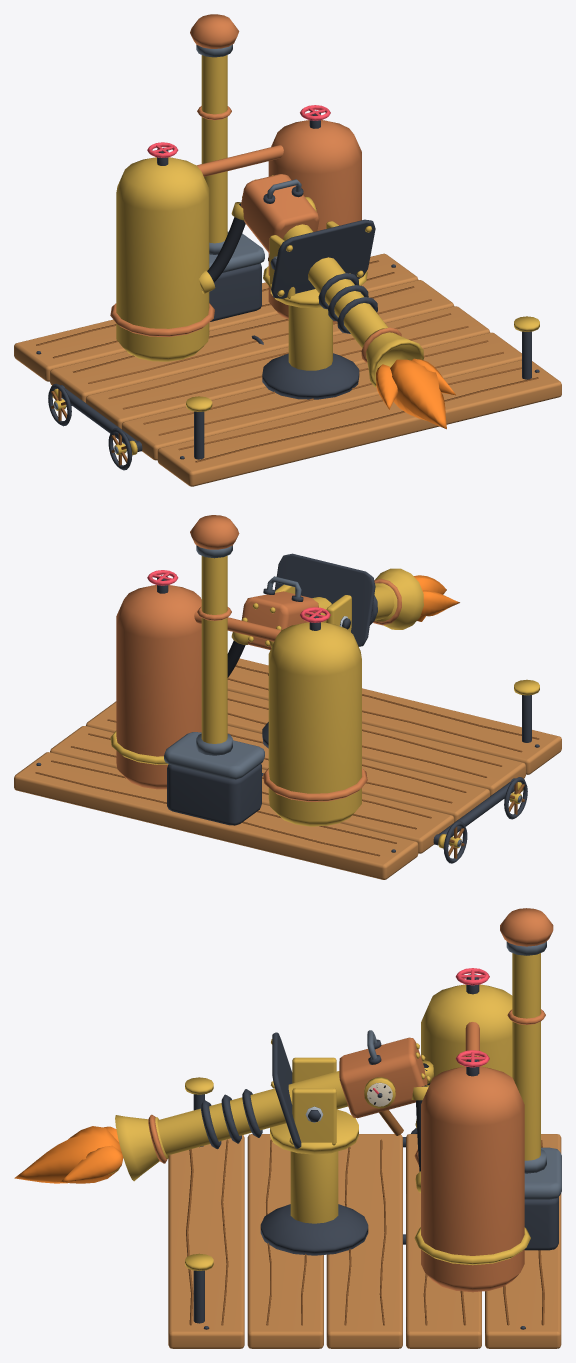
File: FlamethrowerTurret_T2.fbx
The picture shows the model from 3 angles, top to bottom: view 1: azimuth 30°, elevation 25°; view 2: azimuth 150°, elevation 25°; view 3: azimuth 270°, elevation 25°; orthographic projection. The views are drawn at different scales.
Parts seen in each view (by area): view 1: FlamethrowerTurretT2Deck, FlamethrowerTurretT2Tanks, FlamethrowerTurretT2Gun, FlamethrowerTurretT2Pump, FlamethrowerTurretT2Mount, FlamethrowerTurretT2FlameGlow, FlamethrowerTurretT2WheelL, FlamethrowerTurretT2Frame; view 2: FlamethrowerTurretT2Deck, FlamethrowerTurretT2Tanks, FlamethrowerTurretT2Pump, FlamethrowerTurretT2Gun, FlamethrowerTurretT2WheelL, FlamethrowerTurretT2FlameGlow, FlamethrowerTurretT2Frame, FlamethrowerTurretT2Mount; view 3: FlamethrowerTurretT2Deck, FlamethrowerTurretT2Tanks, FlamethrowerTurretT2Gun, FlamethrowerTurretT2Mount, FlamethrowerTurretT2Pump, FlamethrowerTurretT2FlameGlow.
Part boxes in pixels (box(x1,y1,x2,y2)): FlamethrowerTurretT2Deck: box(14, 253, 561, 486); FlamethrowerTurretT2Tanks: box(110, 105, 367, 361); FlamethrowerTurretT2Gun: box(240, 174, 423, 387); FlamethrowerTurretT2Pump: box(190, 14, 264, 321); FlamethrowerTurretT2Mount: box(262, 221, 359, 399); FlamethrowerTurretT2FlameGlow: box(376, 358, 455, 429); FlamethrowerTurretT2WheelL: box(48, 383, 132, 470); FlamethrowerTurretT2Frame: box(51, 385, 142, 455); FlamethrowerTurretT2Deck: box(14, 658, 561, 879); FlamethrowerTurretT2Tanks: box(110, 570, 367, 826); FlamethrowerTurretT2Pump: box(164, 515, 264, 825); FlamethrowerTurretT2Gun: box(241, 553, 423, 675); FlamethrowerTurretT2WheelL: box(443, 777, 527, 863); FlamethrowerTurretT2FlameGlow: box(414, 575, 459, 621); FlamethrowerTurretT2Frame: box(433, 778, 524, 848); FlamethrowerTurretT2Mount: box(262, 584, 351, 748); FlamethrowerTurretT2Deck: box(168, 1077, 561, 1348); FlamethrowerTurretT2Tanks: box(411, 968, 530, 1292); FlamethrowerTurretT2Gun: box(115, 1030, 430, 1181); FlamethrowerTurretT2Mount: box(260, 1057, 368, 1255); FlamethrowerTurretT2Pump: box(500, 908, 561, 1250); FlamethrowerTurretT2FlameGlow: box(14, 1126, 123, 1183).
Size of the model in its own units: 344 by 275 by 381.
